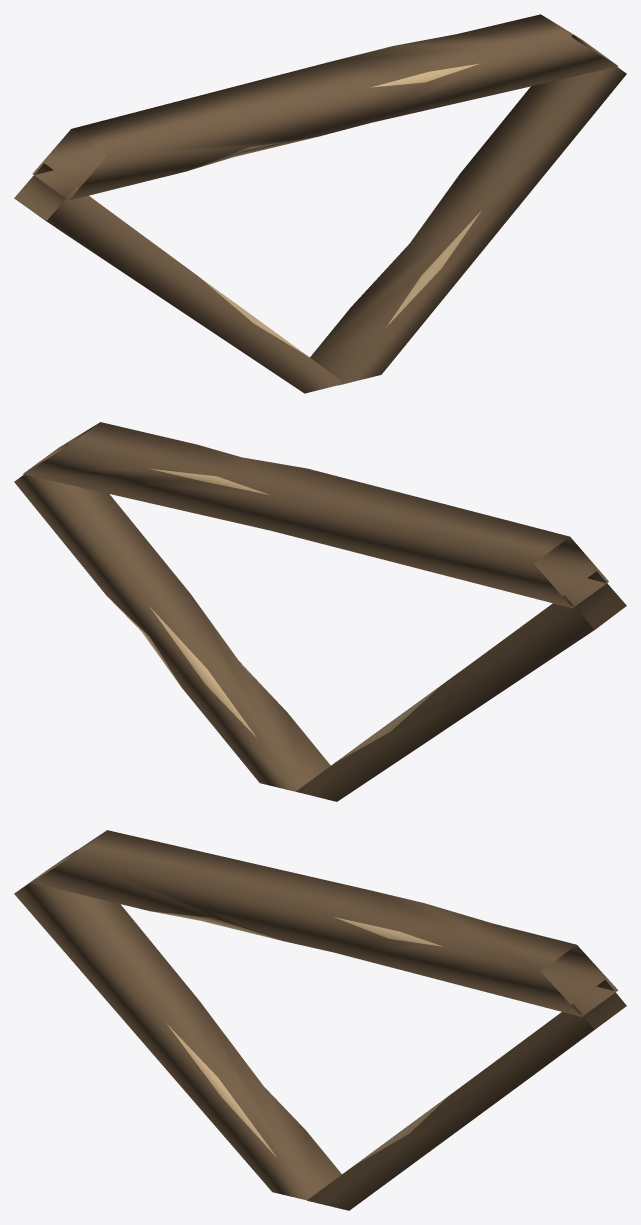
The model's file is rpgpp_ag_roof_end_01_9x4_wall_beam_d.fbx.
The picture shows the model from 3 angles, top to bottom: view 1: azimuth 30°, elevation 25°; view 2: azimuth 150°, elevation 25°; view 3: azimuth 330°, elevation 25°; orthographic projection.
Parts seen in each view (by area): view 1: rpgpp_ag_roof_end_01_9x4_wall_beam_d; view 2: rpgpp_ag_roof_end_01_9x4_wall_beam_d; view 3: rpgpp_ag_roof_end_01_9x4_wall_beam_d.
Part boxes in pixels (left/top/right/bottom): rpgpp_ag_roof_end_01_9x4_wall_beam_d: left=14, top=14, right=626, bottom=393; rpgpp_ag_roof_end_01_9x4_wall_beam_d: left=14, top=422, right=626, bottom=801; rpgpp_ag_roof_end_01_9x4_wall_beam_d: left=14, top=830, right=626, bottom=1210.
Bounding box in the file's own units: 4.89 × 2.38 × 0.5323.
